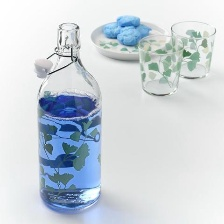bottle: (34, 18, 104, 215)
glass: (135, 33, 184, 100), (169, 19, 217, 83)
